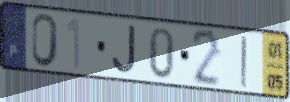0: (30, 12, 60, 70), (146, 26, 176, 81)
1: (66, 17, 81, 71)
2: (189, 26, 225, 89)
I: (239, 33, 250, 90)
J: (110, 23, 138, 76)
